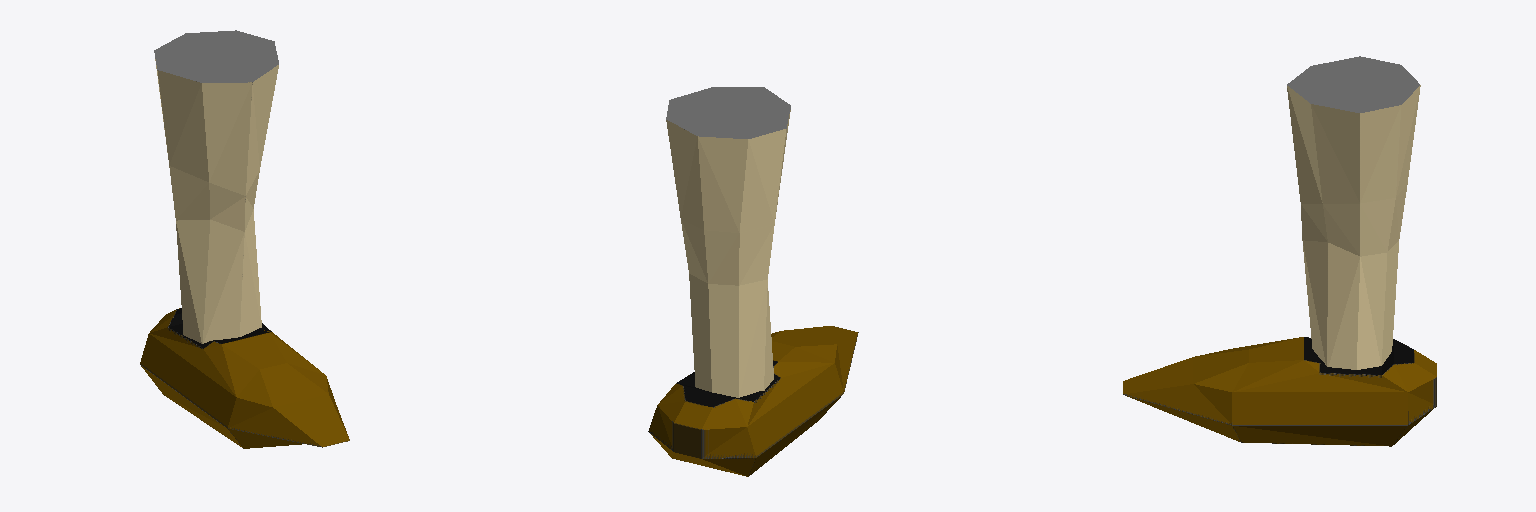
The picture shows the model from 3 angles: view 1: azimuth 30°, elevation 25°; view 2: azimuth 150°, elevation 25°; view 3: azimuth 270°, elevation 25°; orthographic projection.
Visible parts, largest first — view 1: pasted__pasted__group_pasted__leg_kutu_pasted__pCube4 pasted__gr; view 2: pasted__pasted__group_pasted__leg_kutu_pasted__pCube4 pasted__gr; view 3: pasted__pasted__group_pasted__leg_kutu_pasted__pCube4 pasted__gr.
Boxes of the visible parts, box(x1,y1,x2,y2) form: pasted__pasted__group_pasted__leg_kutu_pasted__pCube4 pasted__gr: box(140, 30, 349, 448); pasted__pasted__group_pasted__leg_kutu_pasted__pCube4 pasted__gr: box(648, 87, 858, 476); pasted__pasted__group_pasted__leg_kutu_pasted__pCube4 pasted__gr: box(1123, 56, 1436, 446).
Size of the model in its own units: 0.3728 by 1.04 by 0.8672.
1 materials, 1 textured.